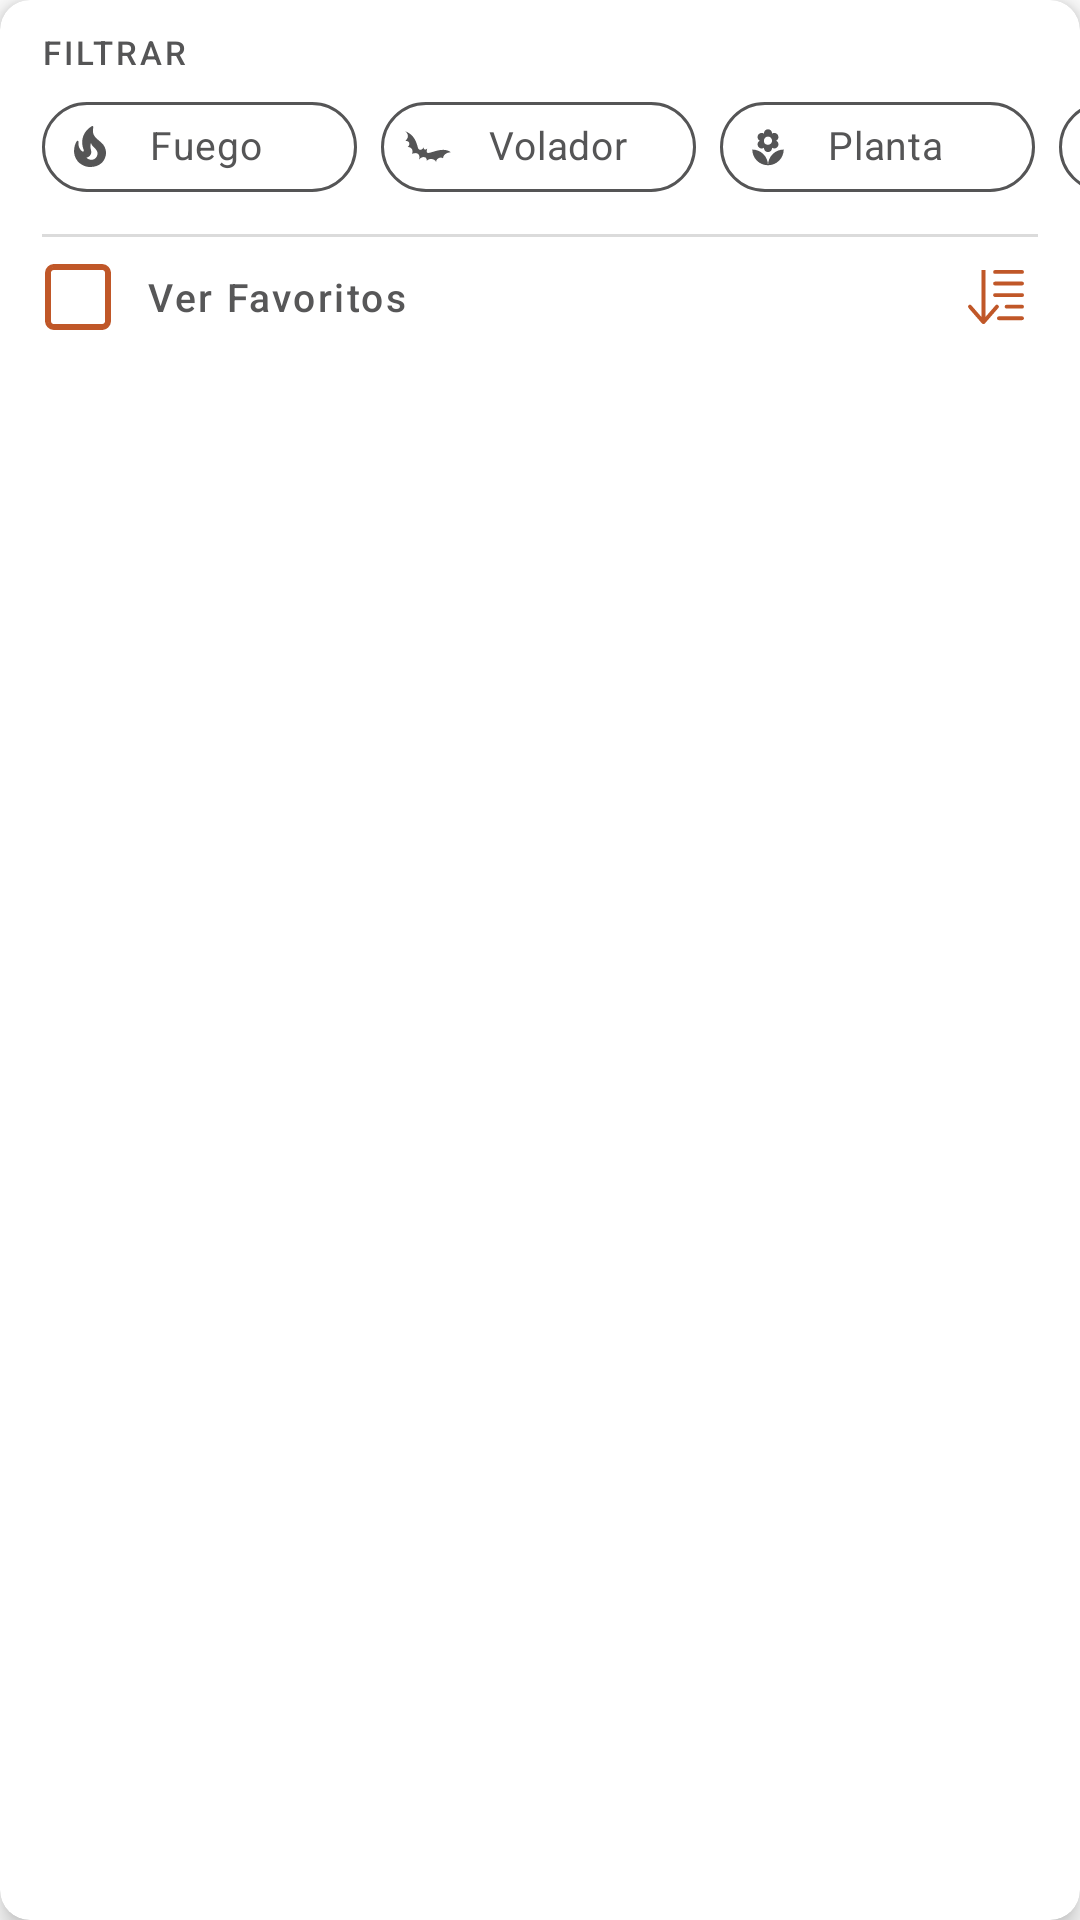

Screen size 1080x1920. Icon name, then its box in pixels as (x1, y1, x2, y2):
order: (968, 270, 1024, 324)
selection checkbox off: (45, 264, 111, 330)
